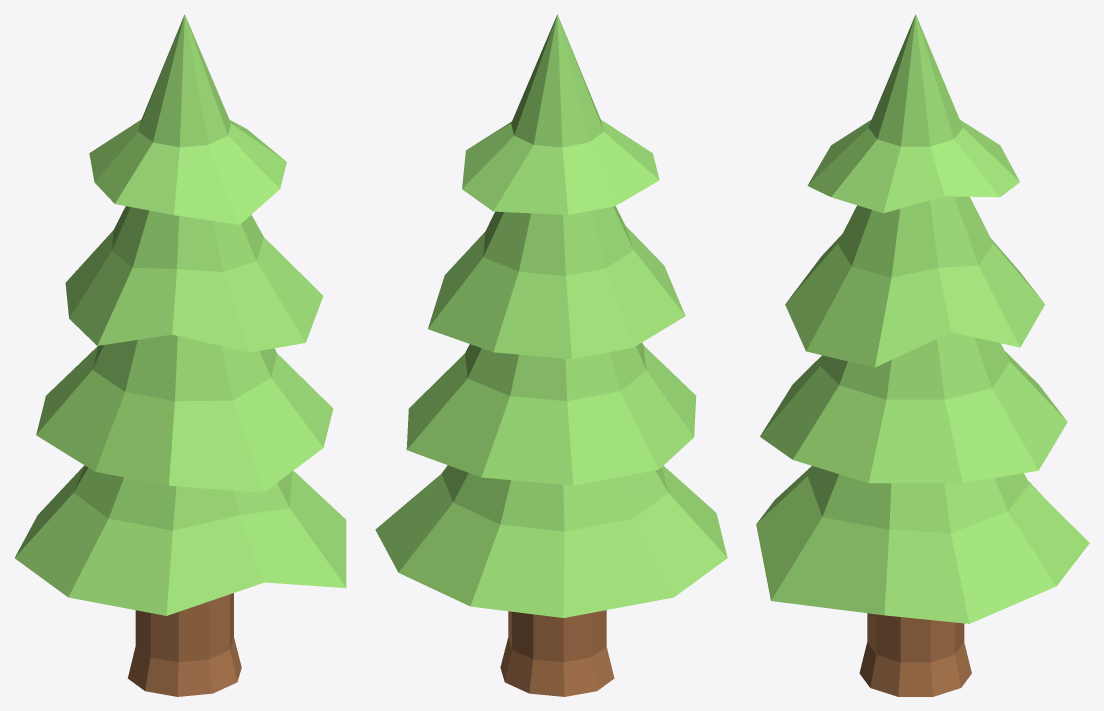
Rendered from Tree2.fbx.
The picture shows the model from 3 angles, left to right: view 1: azimuth 30°, elevation 25°; view 2: azimuth 150°, elevation 25°; view 3: azimuth 270°, elevation 25°; orthographic projection.
Parts seen in each view (by area): view 1: Tree2; view 2: Tree2; view 3: Tree2.
Boxes of the visible parts, x1,y1,x2,y2 form: Tree2: (15,14,346,696); Tree2: (375,14,727,696); Tree2: (756,14,1089,696).
Bounding box in the file's own units: 363 × 765 × 351.
